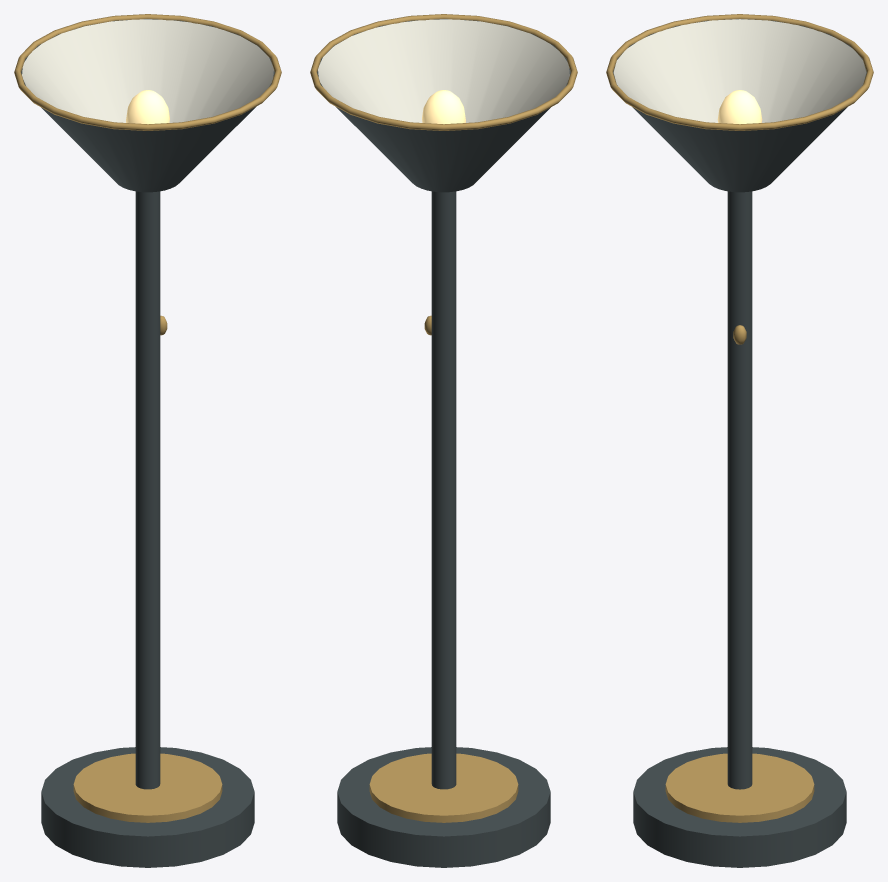
File: lamp_floor.glb
The picture shows the model from 3 angles, left to right: view 1: azimuth 30°, elevation 25°; view 2: azimuth 150°, elevation 25°; view 3: azimuth 270°, elevation 25°; orthographic projection.
Parts seen in each view (by area): view 1: Floor_Lamp_Upward_Bowl, Floor_Lamp_Stem, Floor_Lamp_Foot, Floor_Lamp_Foot_Accent, Floor_Lamp_Bowl_Rim, Floor_Lamp_Bulb; view 2: Floor_Lamp_Upward_Bowl, Floor_Lamp_Stem, Floor_Lamp_Foot, Floor_Lamp_Foot_Accent, Floor_Lamp_Bowl_Rim, Floor_Lamp_Bulb; view 3: Floor_Lamp_Upward_Bowl, Floor_Lamp_Stem, Floor_Lamp_Foot, Floor_Lamp_Foot_Accent, Floor_Lamp_Bowl_Rim, Floor_Lamp_Bulb.
Boxes of the visible parts, x1,y1,x2,y2 form: Floor_Lamp_Upward_Bowl: [21, 19, 274, 192]; Floor_Lamp_Stem: [135, 191, 160, 789]; Floor_Lamp_Foot: [41, 747, 254, 867]; Floor_Lamp_Foot_Accent: [73, 753, 222, 822]; Floor_Lamp_Bowl_Rim: [14, 14, 281, 130]; Floor_Lamp_Bulb: [126, 90, 169, 124]; Floor_Lamp_Upward_Bowl: [317, 19, 570, 192]; Floor_Lamp_Stem: [431, 191, 456, 789]; Floor_Lamp_Foot: [337, 747, 550, 867]; Floor_Lamp_Foot_Accent: [369, 753, 518, 822]; Floor_Lamp_Bowl_Rim: [310, 14, 577, 130]; Floor_Lamp_Bulb: [422, 90, 465, 124]; Floor_Lamp_Upward_Bowl: [613, 19, 866, 192]; Floor_Lamp_Stem: [727, 191, 752, 789]; Floor_Lamp_Foot: [633, 747, 846, 867]; Floor_Lamp_Foot_Accent: [665, 753, 814, 822]; Floor_Lamp_Bowl_Rim: [606, 14, 873, 130]; Floor_Lamp_Bulb: [717, 90, 762, 124].
Size of the model in its own units: 0.54 by 1.68 by 0.54.
